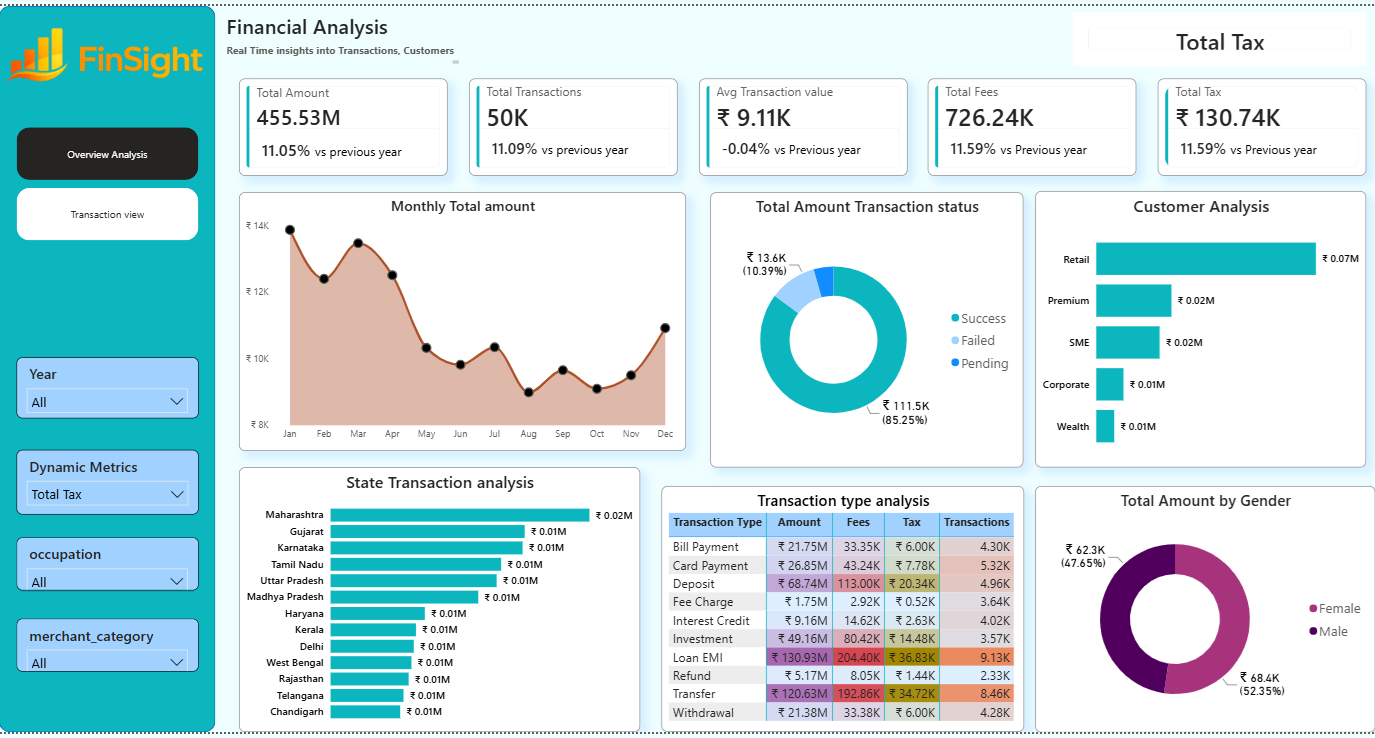

The dashboard page shown, as its layout file describes it:
{"tool":"powerbi","page":{"name":"Overview Analysis","canvas":[1800,950],"ordinal":0},"visuals":[{"type":"shape","box":[0,0,282.9,950],"z":0},{"type":"image","box":[0,8.2,282.9,112.8],"z":1000},{"type":"textbox","title":"Financial Analysis","box":[292.7,8.2,314,71.9],"z":2000},{"type":"cardVisual","title":"Total Amount","fields":{"Data":["Measures Table.Total Amount"]},"box":[314,94.8,273.1,127.5],"z":3000},{"type":"cardVisual","title":"Total Amount","fields":{"Data":["Measures Table.Total Transactions"]},"box":[614.4,94.8,273.1,127.5],"z":4000},{"type":"cardVisual","title":"Total Amount","fields":{"Data":["Measures Table.Avg Transaction value"]},"box":[914.9,94.8,273.1,127.5],"z":5000},{"type":"cardVisual","title":"Total Amount","fields":{"Data":["Measures Table.Total Fees"]},"box":[1215.3,94.8,273.1,127.5],"z":6000},{"type":"cardVisual","title":"Total Amount","fields":{"Data":["Measures Table.Total Tax"]},"box":[1515.8,94.8,273.1,127.5],"z":7000},{"type":"slicer","fields":{"Values":["Dynamic Metrics.Dynamic Metrics"]},"box":[22.9,580.5,238.7,85],"z":8000},{"type":"areaChart","title":"Monthly Total amount","fields":{"Y":["Measures Table.Total Tax"],"Category":["Date Table.Month Short Name"]},"box":[314.8,243.2,584.6,338.1],"z":9000},{"type":"cardVisual","fields":{"Data":["Measures Table.selected Dynamic_measure"]},"box":[1404.6,8.2,384.3,70.3],"z":10000},{"type":"donutChart","title":"Total Amount Transaction status","fields":{"Y":["Measures Table.Total Tax"],"Category":["finance_transactions.transaction_status"]},"box":[931,243.2,409.7,359.7],"z":11000},{"type":"barChart","title":"Customer Analysis","fields":{"Y":["Measures Table.Total Tax"],"Category":["customers.customer_segment"]},"box":[1355.7,241.5,433,361.4],"z":12000},{"type":"barChart","title":"State Transaction analysis","fields":{"Y":["Measures Table.Total Tax"],"Category":["customers.state"]},"box":[314.8,602.9,524.6,346.4],"z":13000},{"type":"tableEx","title":"Transaction type analysis","fields":{"Values":["finance_transactions.transaction_type","Measures Table.Total Amount","Measures Table.Total Fees","Measures Table.Total Tax","Measures Table.Total Transactions"]},"box":[866,627.9,474.6,321.4],"z":14000},{"type":"donutChart","title":"Total Amount by Gender","fields":{"Y":["Measures Table.Total Tax"],"Category":["customers.gender"]},"box":[1355.6,627.9,444.8,322.1],"z":15000},{"type":"slicer","fields":{"Values":["customers.occupation"]},"box":[23.3,694.5,238.2,69.9],"z":16000},{"type":"slicer","fields":{"Values":["Date Table.Year"]},"box":[23.3,459.7,238.2,79.9],"z":17000},{"type":"slicer","fields":{"Values":["finance_transactions.merchant_category"]},"box":[23.3,801.1,238.2,69.9],"z":18000},{"type":"pageNavigator","box":[23.3,158.2,238.2,148.2],"z":19000}]}

Visuals, with their boxes in screenshot pixels (x1, y1, x2, y2), scaled from the page's 1800x950 canvas onto the 1375x738 screenshot:
shape: l=0, t=0, r=216, b=737
image: l=0, t=6, r=216, b=94
"Financial Analysis" textbox: l=224, t=6, r=463, b=62
"Total Amount" cardVisual: l=240, t=74, r=448, b=173
"Total Amount" cardVisual: l=469, t=74, r=678, b=173
"Total Amount" cardVisual: l=699, t=74, r=907, b=173
"Total Amount" cardVisual: l=928, t=74, r=1137, b=173
"Total Amount" cardVisual: l=1158, t=74, r=1367, b=173
slicer - Dynamic Metrics.Dynamic Metrics: l=17, t=451, r=200, b=517
"Monthly Total amount" areaChart: l=240, t=189, r=687, b=452
cardVisual - Measures Table.selected Dynamic_measure: l=1073, t=6, r=1367, b=61
"Total Amount Transaction status" donutChart: l=711, t=189, r=1024, b=468
"Customer Analysis" barChart: l=1036, t=188, r=1366, b=468
"State Transaction analysis" barChart: l=240, t=468, r=641, b=737
"Transaction type analysis" tableEx: l=662, t=488, r=1024, b=737
"Total Amount by Gender" donutChart: l=1036, t=488, r=1374, b=737
slicer - customers.occupation: l=18, t=540, r=200, b=594
slicer - Date Table.Year: l=18, t=357, r=200, b=419
slicer - finance_transactions.merchant_category: l=18, t=622, r=200, b=677
pageNavigator: l=18, t=123, r=200, b=238
